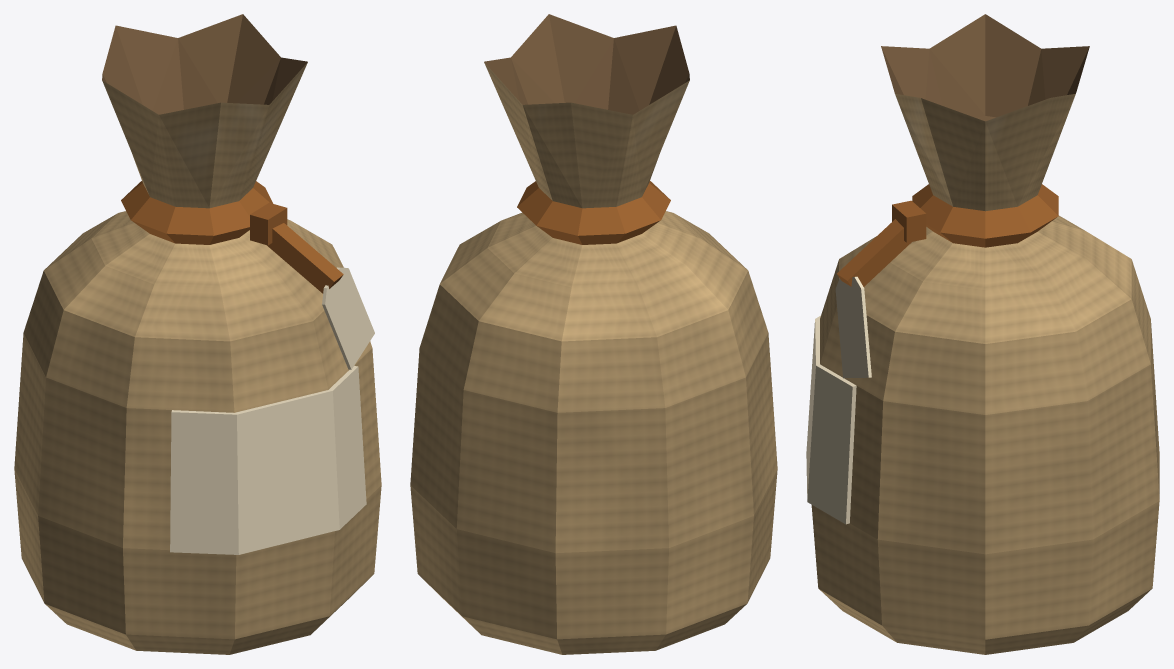
Rendered from FMS_Crate_Seed_Sack_Large.fbx.
3 views of the same model, side by side, from view 1: azimuth 30°, elevation 25°; view 2: azimuth 150°, elevation 25°; view 3: azimuth 270°, elevation 25° (orthographic).
Visible parts, largest first — view 1: item_tools_seed_sack_large; view 2: item_tools_seed_sack_large; view 3: item_tools_seed_sack_large.
Part boxes in pixels (box(x1,y1,x2,y2)): item_tools_seed_sack_large: box(14, 14, 381, 654); item_tools_seed_sack_large: box(410, 14, 777, 654); item_tools_seed_sack_large: box(806, 14, 1159, 654).
Bounding box in the file's own units: 0.3 × 0.48 × 0.2893.
